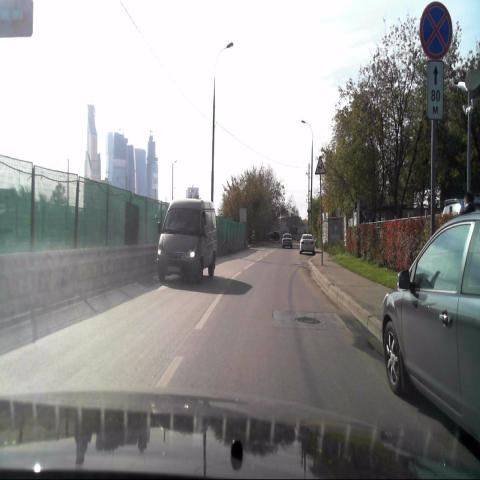1_12: (315, 155, 328, 174)
8_2_2: (427, 58, 444, 120)
